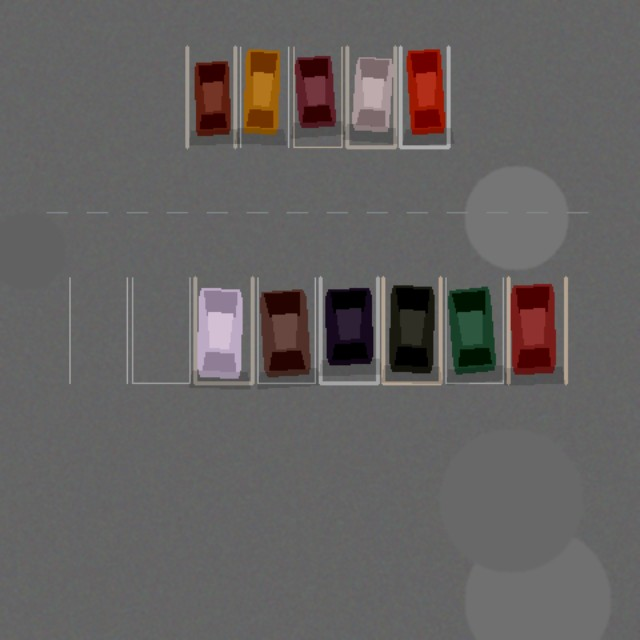space-empty: (69, 277, 127, 383), (132, 277, 189, 383)
space-occupied: (257, 277, 315, 383), (445, 277, 503, 383), (195, 277, 252, 383), (320, 277, 377, 383), (383, 277, 440, 383), (508, 277, 565, 383), (187, 47, 235, 147), (240, 47, 288, 147), (293, 47, 341, 147), (347, 47, 395, 147), (400, 47, 448, 147)
